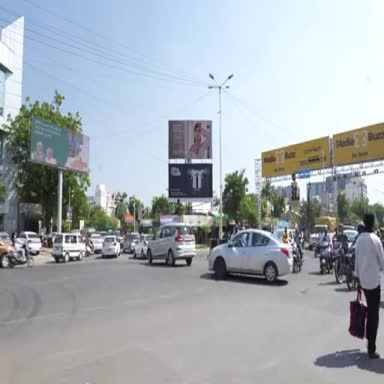Car: (208, 230, 293, 282), (147, 224, 196, 266), (52, 234, 86, 262), (18, 232, 41, 254), (133, 235, 154, 259), (309, 224, 327, 250), (0, 233, 12, 267), (102, 236, 120, 258), (122, 233, 140, 254), (90, 234, 103, 253), (0, 232, 12, 245), (287, 229, 294, 243)
